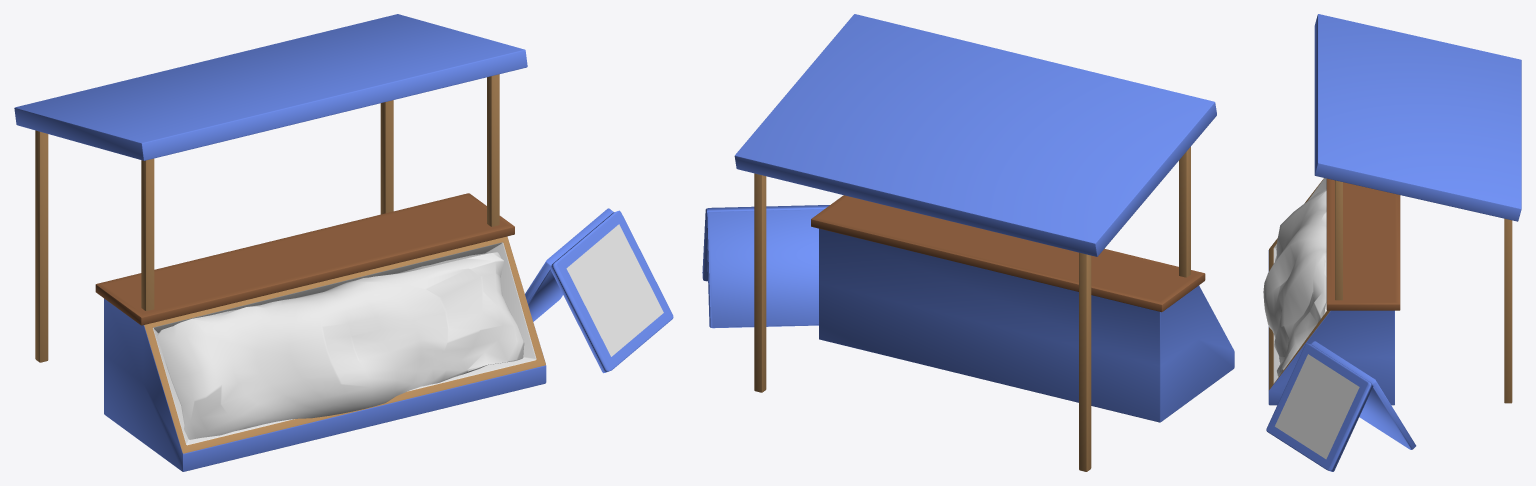
File: Market.fbx
The picture shows the model from 3 angles, left to right: view 1: azimuth 30°, elevation 25°; view 2: azimuth 150°, elevation 25°; view 3: azimuth 270°, elevation 25°; orthographic projection. The views are drawn at different scales.
Parts seen in each view (by area): view 1: Cube, Cube.005; view 2: Cube, Cube.005; view 3: Cube, Cube.005.
Part boxes in pixels (x1,y1,x2,y2): Cube: [14, 14, 546, 471]; Cube.005: [525, 208, 673, 373]; Cube: [734, 14, 1234, 471]; Cube.005: [702, 205, 829, 328]; Cube: [1263, 14, 1521, 405]; Cube.005: [1266, 341, 1416, 471].
Size of the model in its own units: 1454 by 812 by 757.
